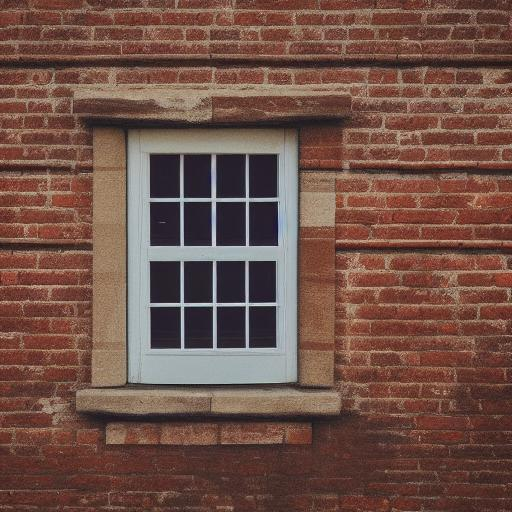Window: (74, 81, 346, 445)
